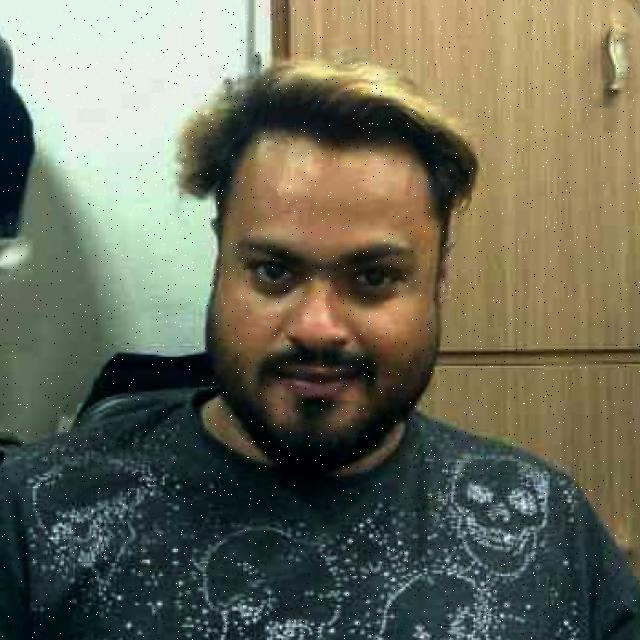puffy_eyes: (246, 275, 298, 296), (350, 284, 396, 302)
